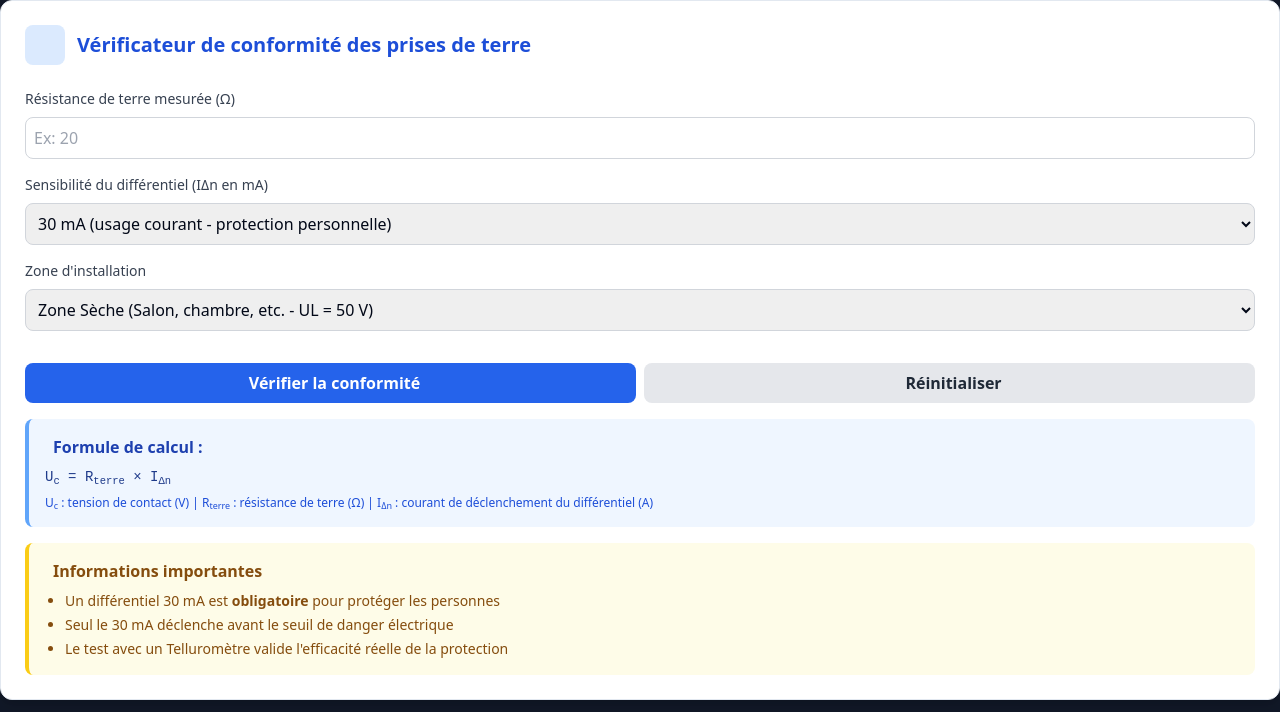
Test: EarthResistanceChecker › handles different differential sensitivities
Type "50" into the number field with placeholder "Ex: 20" at (640, 138), box [25,117,1255,159]
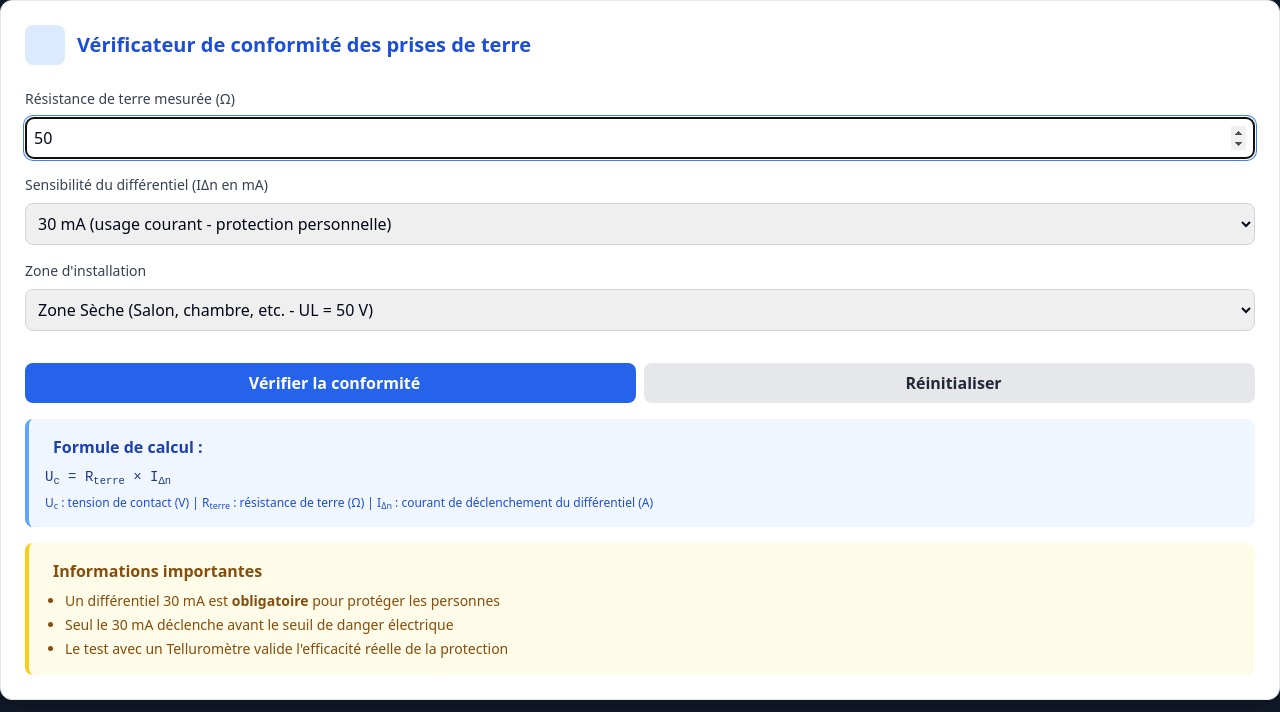
Select "100 mA" in the dropdown named "Sensibilité du différentiel" at (640, 224), box [25,203,1255,245]
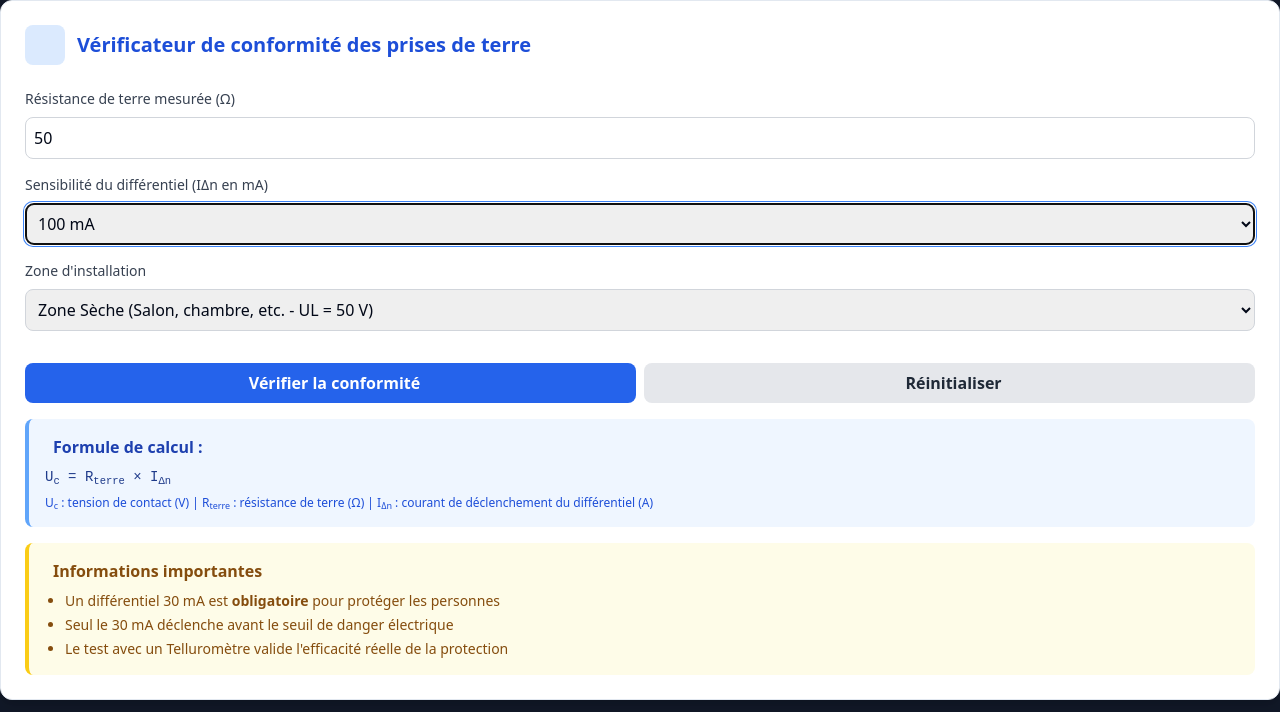
Click the button "Vérifier la conformité" at (330, 383), box [25,363,636,403]
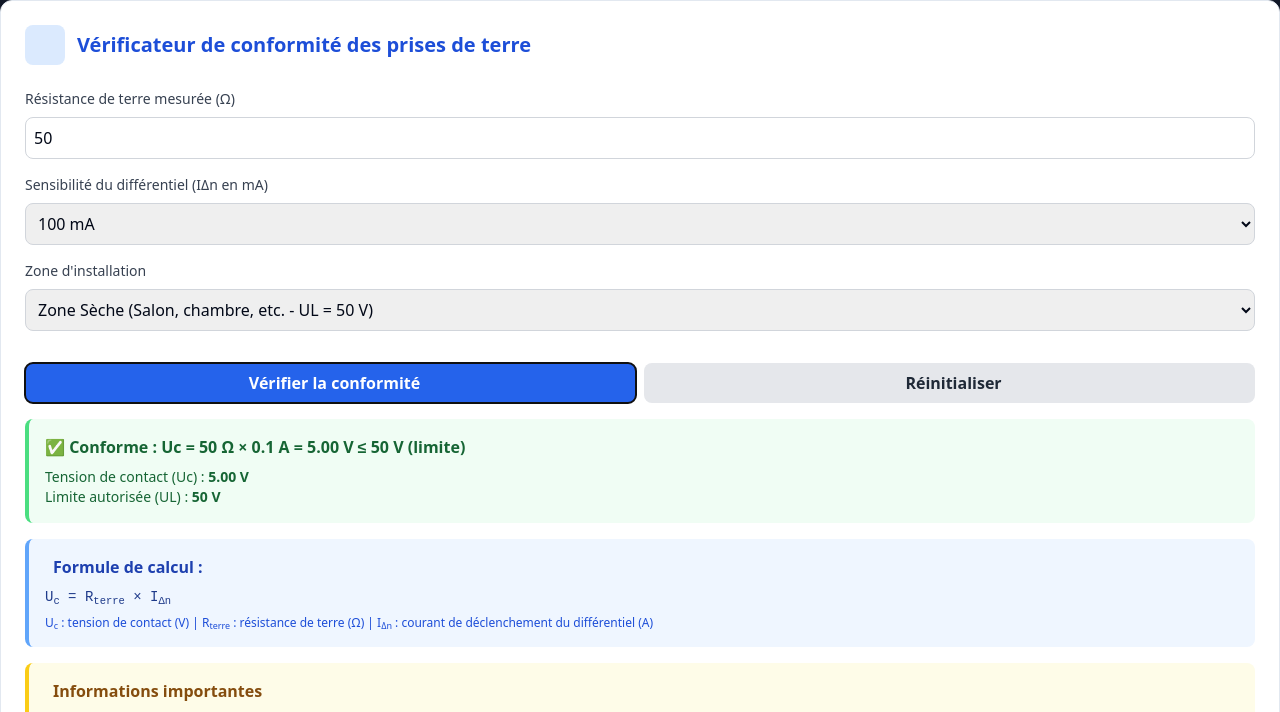
Now the text "✅ Conforme : Uc = 50 Ω × 0.1 A = 5.00 V ≤ 50 V (limite)" is shown, box [45,436,465,458]
